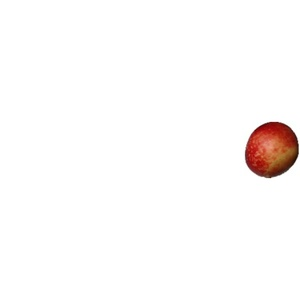nectarina: (246, 123, 299, 179)
